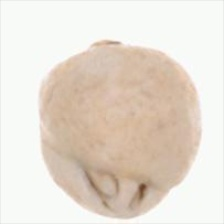L3: (80, 162, 159, 217)
L4: (38, 39, 202, 219)
